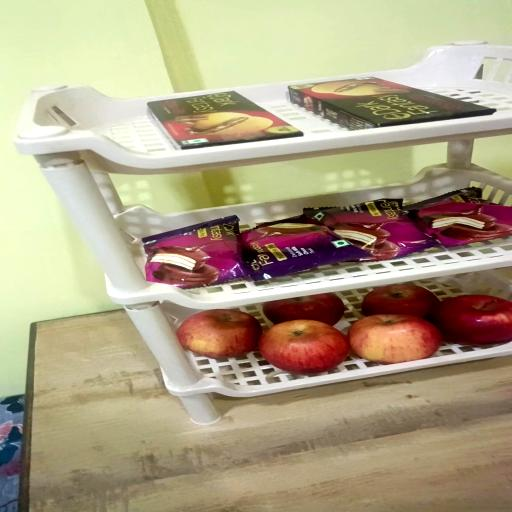Apple: (259, 320, 350, 374), (348, 314, 442, 365), (427, 296, 510, 346), (179, 310, 264, 358), (362, 284, 439, 320), (264, 294, 345, 326)
Choco Fills: (288, 76, 496, 130), (149, 90, 305, 150)
Choco Pie: (303, 198, 438, 261), (240, 216, 366, 282), (145, 218, 252, 290), (406, 190, 510, 248)
